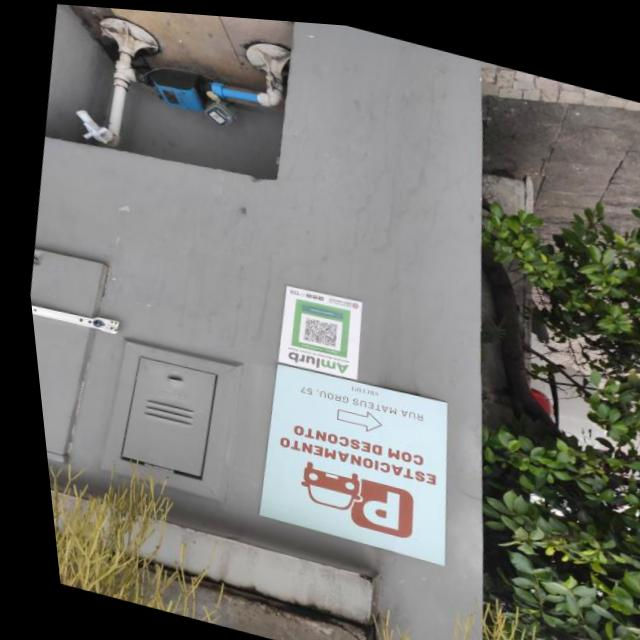qrcode: (296, 312, 333, 343)
